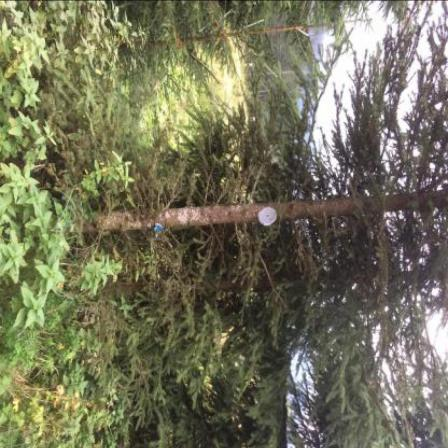Lid: (259, 207, 278, 226)
Unlabeled litter: (155, 224, 165, 239)
